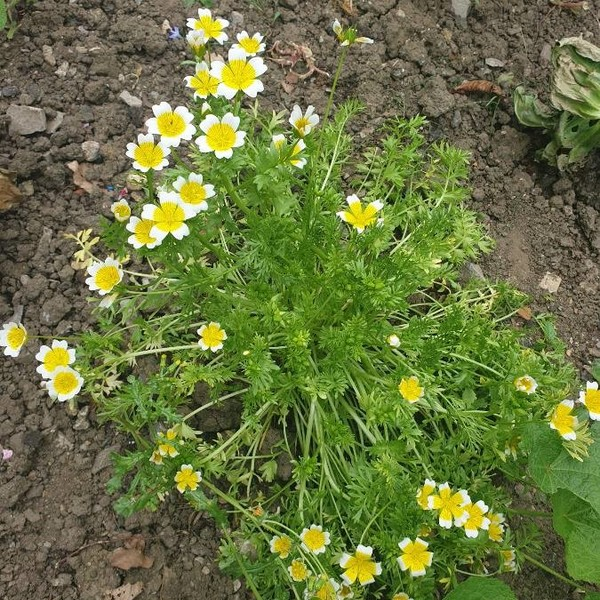obstacle: (55, 14, 523, 577)
